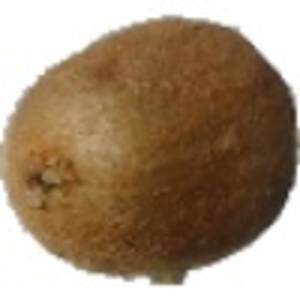kiwi: (1, 16, 300, 289)
